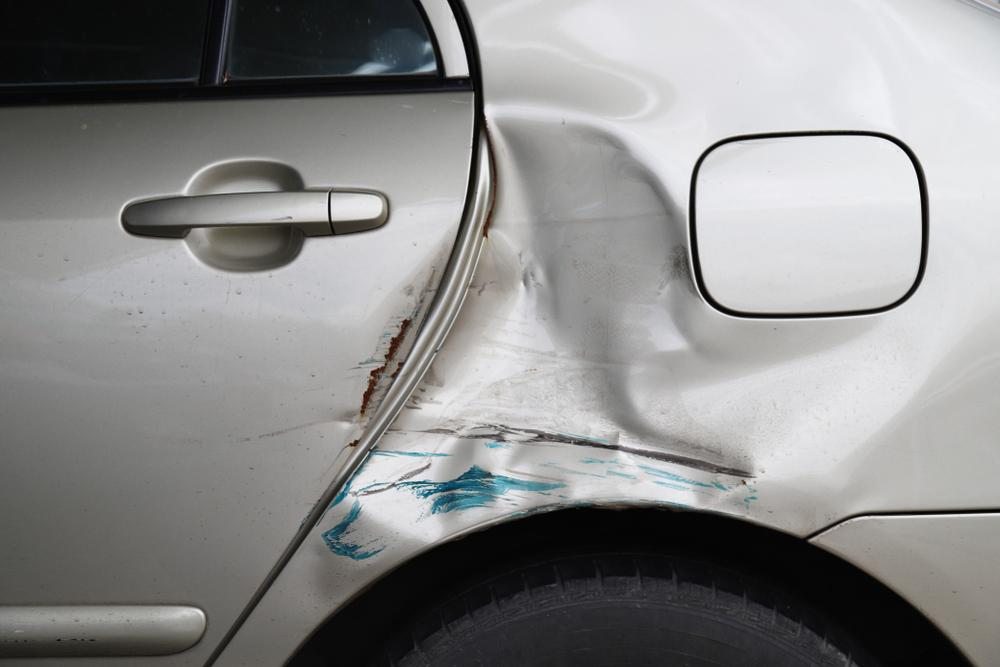dent: (350, 110, 909, 538)
scratch: (352, 276, 434, 426), (315, 490, 387, 562)
